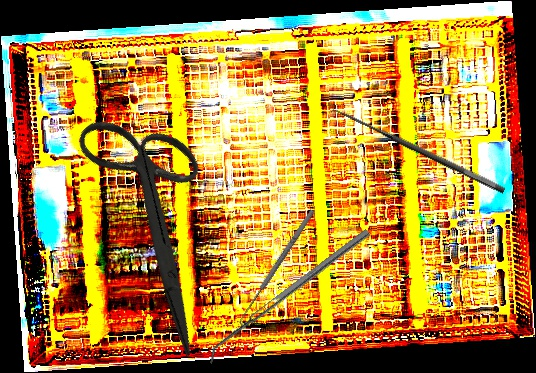Hook Surgical: (325, 101, 507, 208), (234, 207, 321, 330)
Iris Scissors: (16, 86, 293, 359)
Spatula Surgical: (202, 228, 375, 365)
